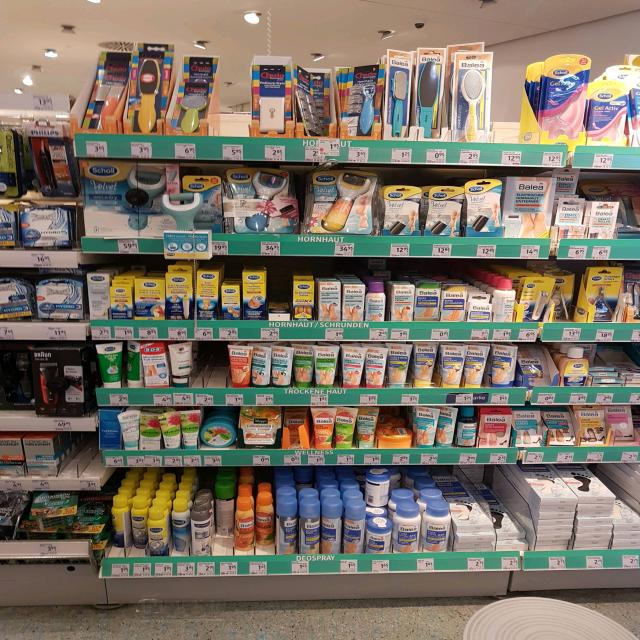empty: (486, 49, 544, 153), (210, 52, 254, 141), (183, 337, 231, 397), (57, 428, 99, 481)
